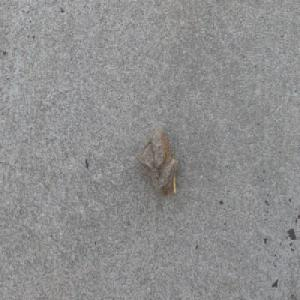Rock: (135, 124, 177, 198)
